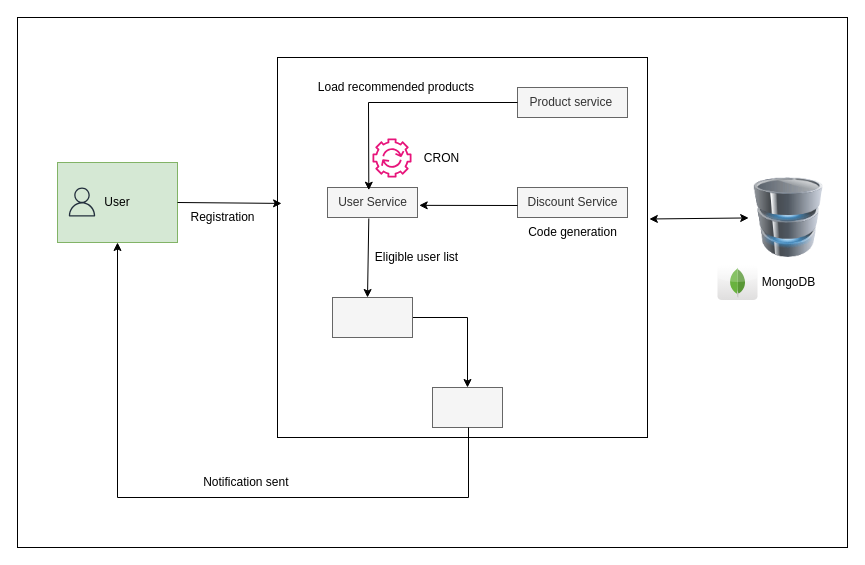
The diagram is 865 pixels wide and 565 high, and some of its shapes have lost their labels. The shapes that lost their labels are listed below. From the top down, each one's box as (x1, y1, x2, y2) in pixels, then its label:
(332, 296, 412, 338): Notification Service
(432, 386, 502, 428): Email Provider
